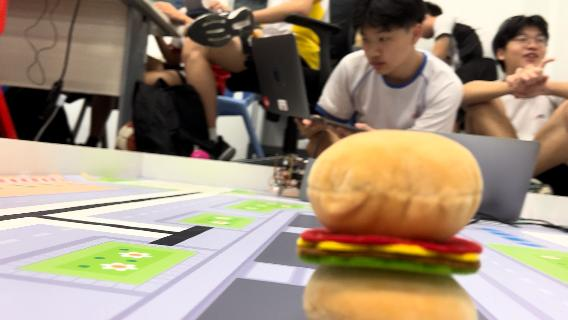burger: (296, 128, 491, 318)
